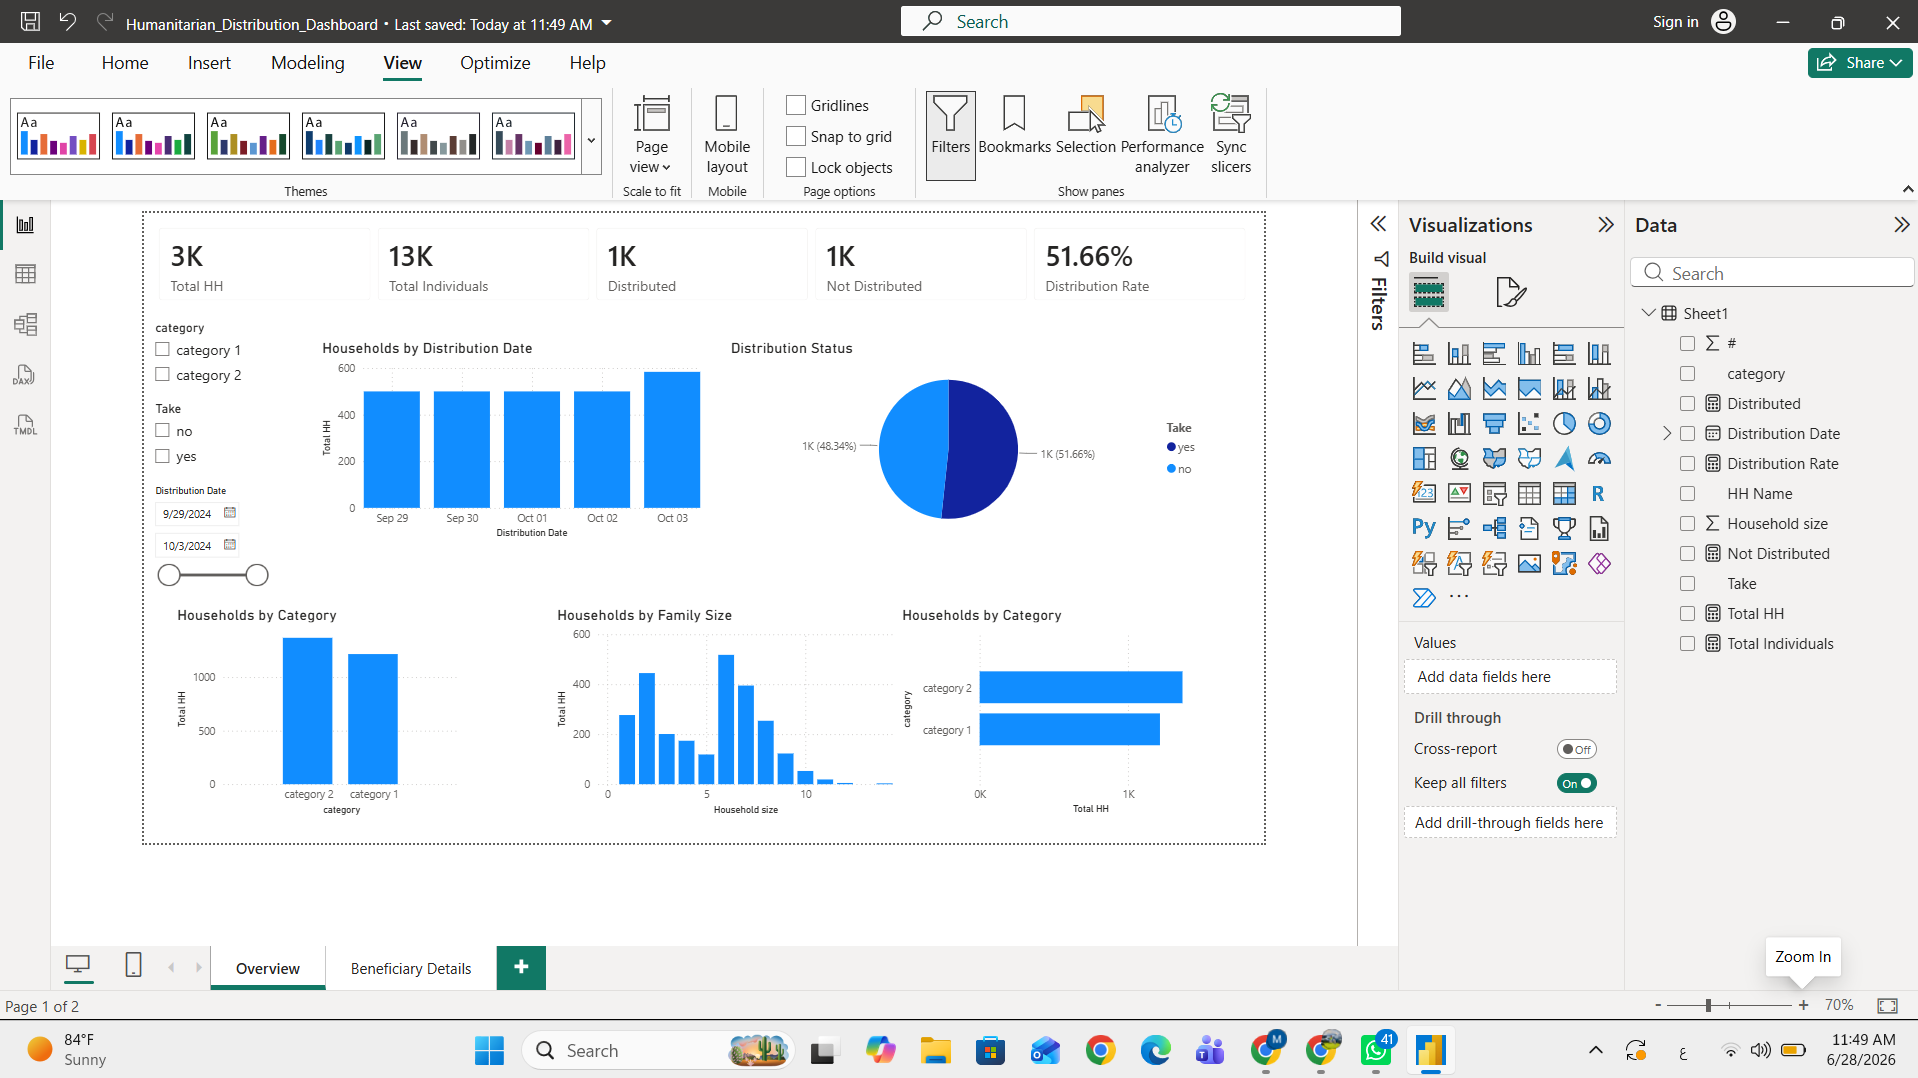

The dashboard page shown, as its layout file describes it:
{"tool":"powerbi","page":{"name":"Overview","canvas":[1280,720],"ordinal":0},"visuals":[{"type":"pieChart","title":"Distribution Status","fields":{"Category":["Sheet1.Take"],"Y":["Sheet1.Total HH"]},"box":[665.4,144.2,555.8,232.7],"z":0},{"type":"cardVisual","fields":{"Data":["Sheet1.Total HH","Sheet1.Total Individuals","Sheet1.Distributed","Sheet1.Not Distributed","Sheet1.Distribution Rate"]},"box":[0,0,1280.8,117.3],"z":1000},{"type":"columnChart","title":"Households by Distribution Date","fields":{"Y":["Sheet1.Total HH"],"Category":["Sheet1.Distribution  Date"]},"box":[198.1,144.2,442.3,232.7],"z":1001},{"type":"clusteredColumnChart","title":"Households by Category","fields":{"Category":["Sheet1.category"],"Y":["Sheet1.Total HH"]},"box":[32.7,448.1,332.7,244.2],"z":1002},{"type":"columnChart","title":"Households by Family Size","fields":{"Y":["Sheet1.Total HH"],"Category":["Sheet1.Household size"]},"box":[467.3,448.1,394.2,244.2],"z":1003},{"type":"slicer","fields":{"Values":["Sheet1.category"]},"box":[0,117.3,150,92.3],"z":1004},{"type":"slicer","fields":{"Values":["Sheet1.Distribution  Date"]},"box":[0,305.8,150,142.3],"z":1005},{"type":"slicer","fields":{"Values":["Sheet1.Take"]},"box":[0,209.6,159.6,96.2],"z":1006},{"type":"barChart","title":"Households by Category","fields":{"Y":["Sheet1.Total HH"],"Category":["Sheet1.category"]},"box":[861,448,360,244],"z":1007}]}

Visuals, with their boxes on the page's 1280x720 design canvas (x1, y1, x2, y2). These are canvas units, not pixel positions in the 1918x1078 screenshot, which may show the page scaled, cropped or inside an application window:
"Distribution Status" pieChart: 665:144:1221:377
cardVisual - Sheet1.Total HH x Sheet1.Total Individuals: 0:0:1281:117
"Households by Distribution Date" columnChart: 198:144:640:377
"Households by Category" clusteredColumnChart: 33:448:365:692
"Households by Family Size" columnChart: 467:448:862:692
slicer - Sheet1.category: 0:117:150:210
slicer - Sheet1.Distribution  Date: 0:306:150:448
slicer - Sheet1.Take: 0:210:160:306
"Households by Category" barChart: 861:448:1221:692
